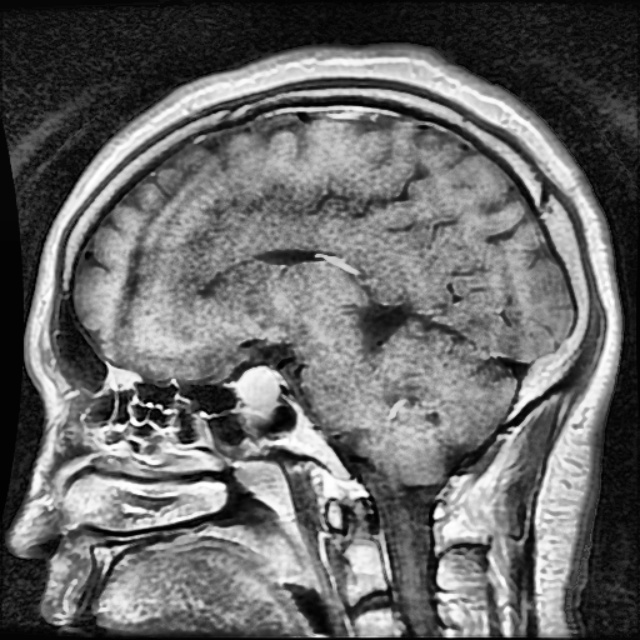Pituitary: (235, 365, 280, 407)
